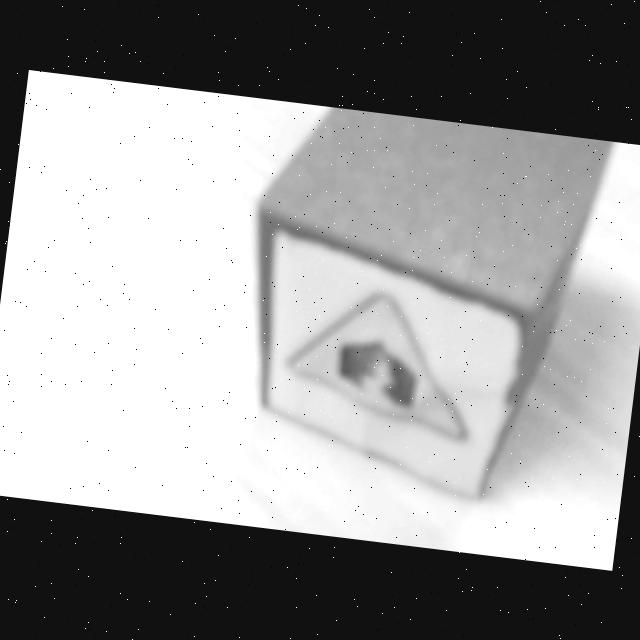Earthquake: (284, 292, 469, 444)
